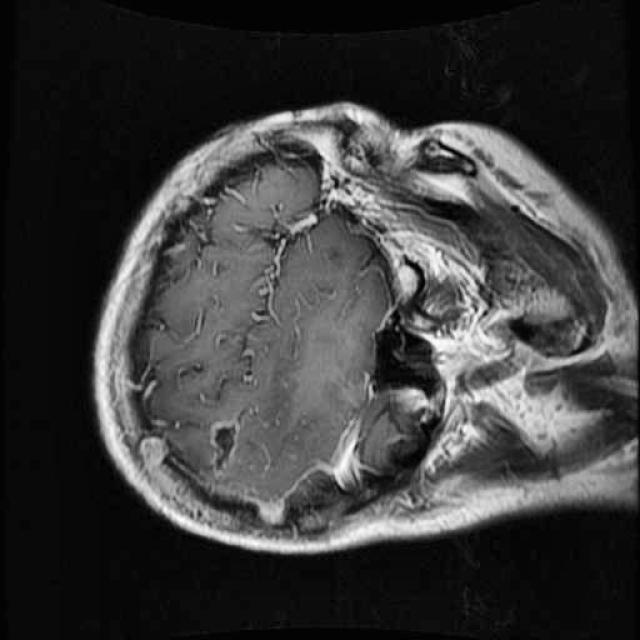Non-Tumor: (203, 411, 255, 486)
